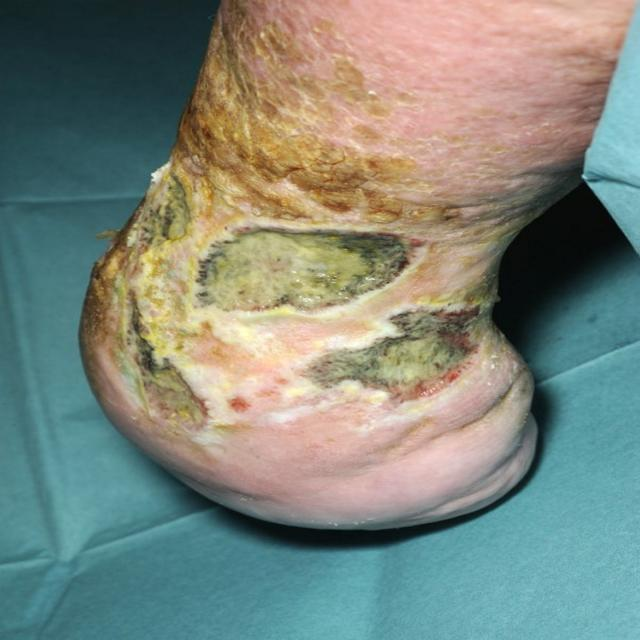wound: (88, 72, 503, 450)
